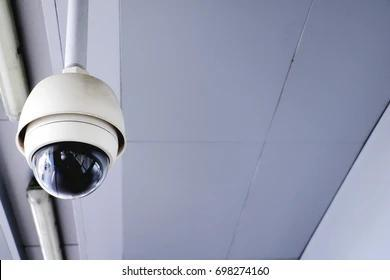360-Cam: (16, 67, 125, 200)
